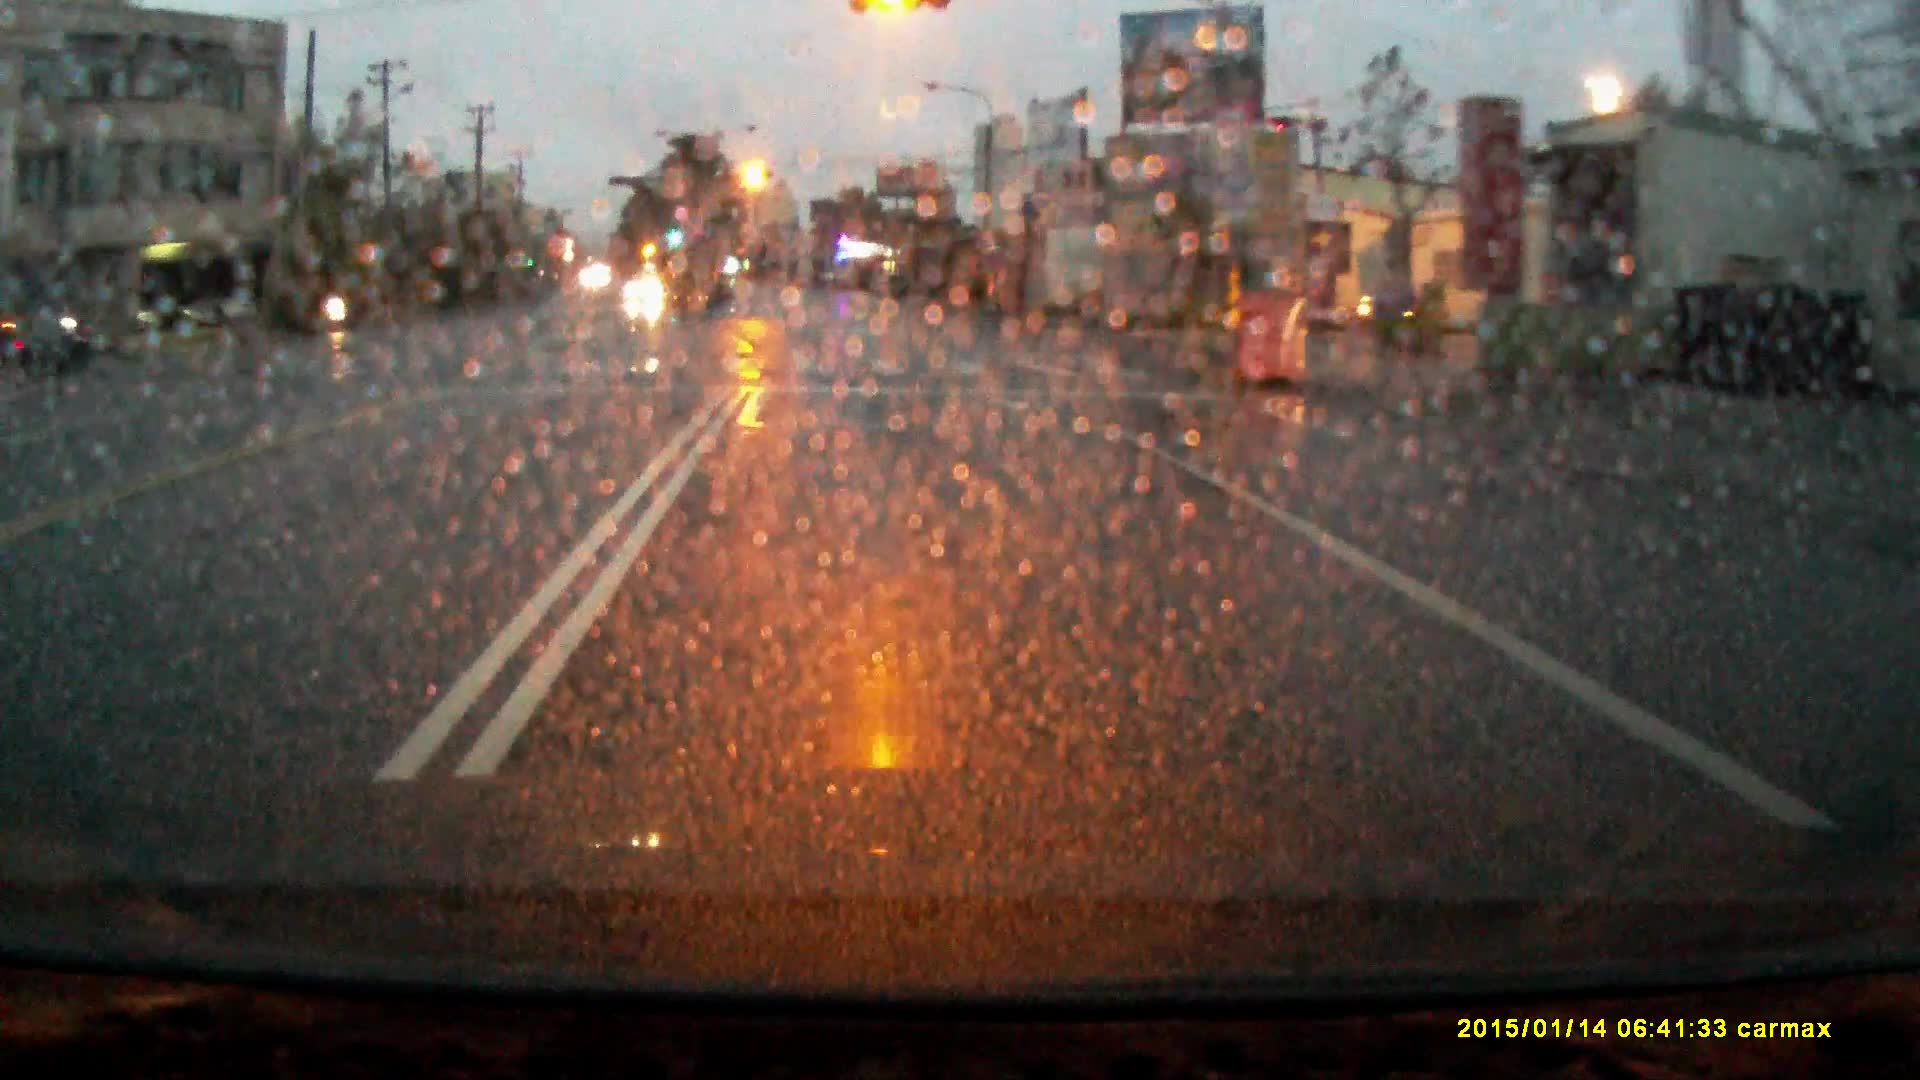rider: (323, 263, 355, 338)
vehicle: (624, 277, 666, 306)
